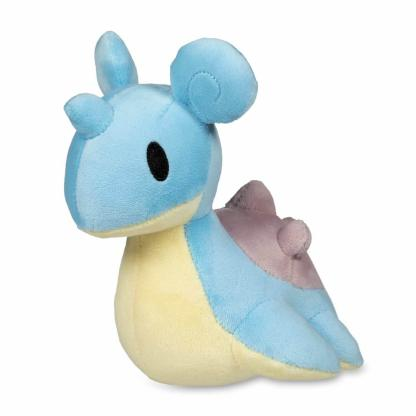Lapras: (37, 32, 416, 377)
